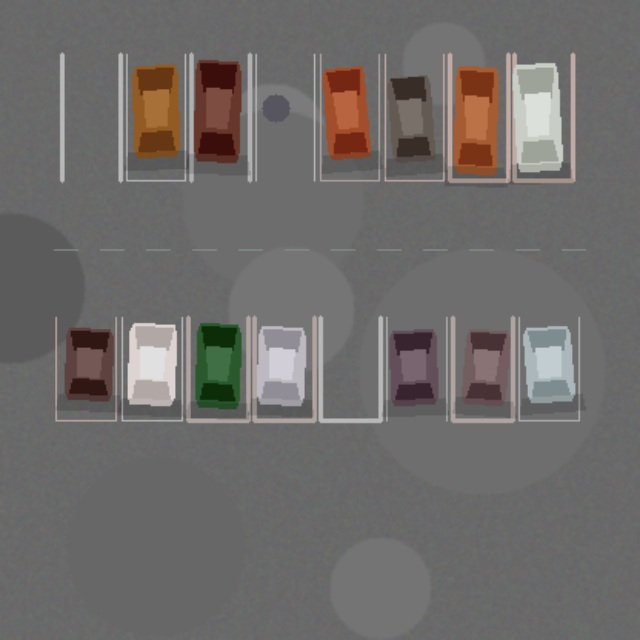space-empty: (255, 54, 314, 180), (62, 54, 120, 180), (320, 317, 380, 420)
space-occupied: (126, 54, 185, 180), (449, 54, 508, 180), (191, 54, 249, 180), (320, 54, 378, 180), (385, 54, 443, 180), (514, 54, 572, 180), (55, 317, 115, 420), (122, 317, 182, 420), (188, 317, 248, 420), (254, 317, 314, 420), (386, 317, 446, 420), (452, 317, 512, 420), (518, 317, 578, 420)
